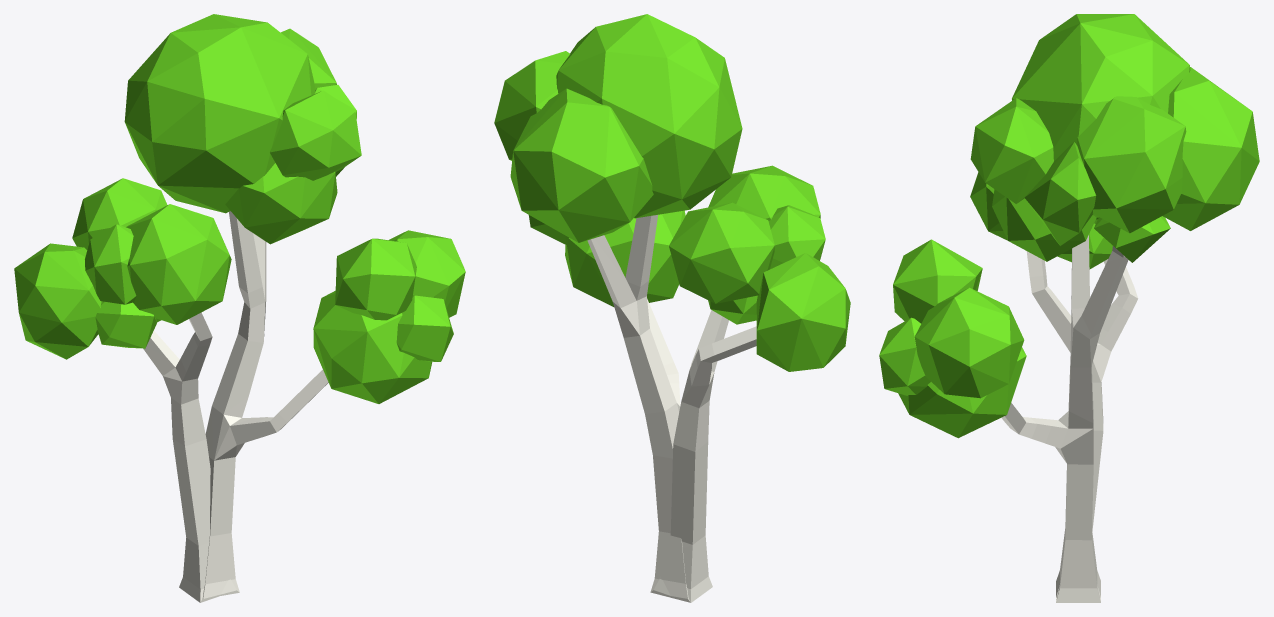
File: kesa_koivu2.fbx
The picture shows the model from 3 angles, left to right: view 1: azimuth 30°, elevation 25°; view 2: azimuth 150°, elevation 25°; view 3: azimuth 270°, elevation 25°; orthographic projection. The views are drawn at different scales.
Parts seen in each view (by area): view 1: Icosphere, Cube; view 2: Icosphere, Cube; view 3: Icosphere, Cube.
Part boxes in pixels (x1,y1,x2,y2): Icosphere: (14, 14, 465, 403); Cube: (143, 211, 328, 602); Icosphere: (494, 14, 850, 371); Cube: (587, 215, 756, 602); Icosphere: (879, 14, 1259, 438); Cube: (1001, 235, 1138, 602).
Bounding box in the file's own units: 1612 × 2261 × 1328.
